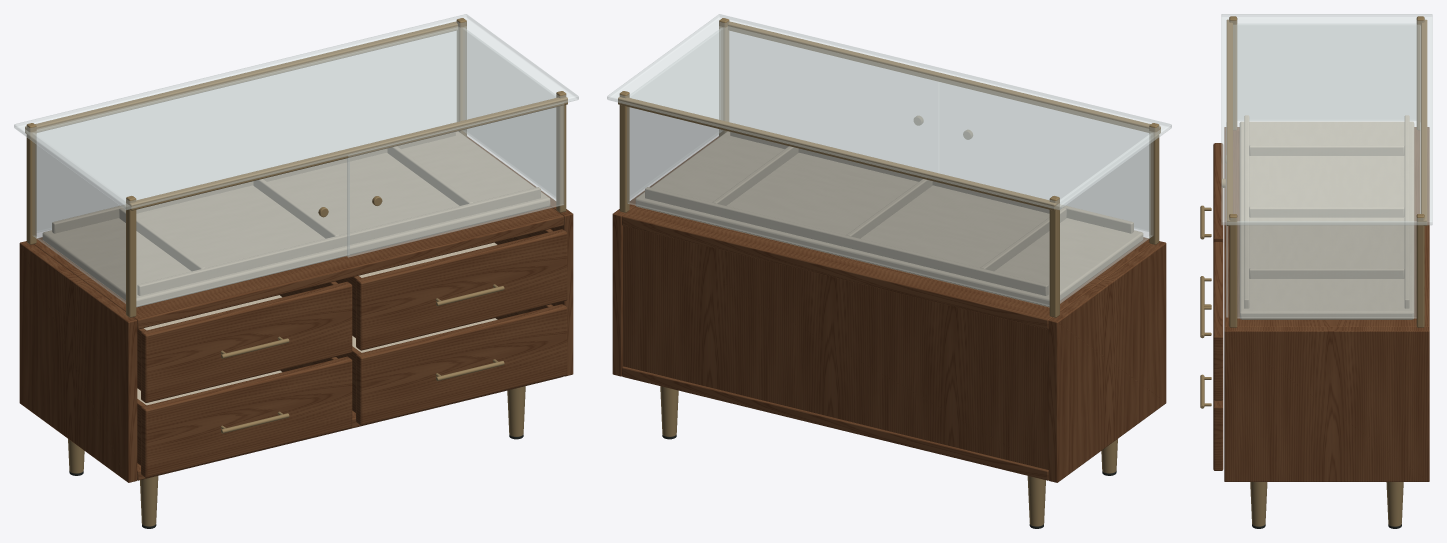
Rendered from gem.glb.
The picture shows the model from 3 angles, left to right: view 1: azimuth 30°, elevation 25°; view 2: azimuth 150°, elevation 25°; view 3: azimuth 270°, elevation 25°; orthographic projection. The views are drawn at different scales.
Visible parts, largest first — view 1: Glazing | polished glass canopy, Glazing | rear glass, Display | flax-lined presentation floor, Glazing | sliding front glass.001, Glazing | sliding front glass, Case | side, Display case | velvet-lined drawer | front.003, Display case | velvet-lined drawer | front.001, Display case | velvet-lined drawer | front.002, Display case | velvet-lined drawer | front, Case | horizontal panel.001, Glazing | side glass (+16 smaller); view 2: Case | inset back, Glazing | polished glass canopy, Glazing | rear glass, Display | flax-lined presentation floor, Case | side, Glazing | sliding front glass.001, Glazing | sliding front glass, Case | horizontal panel.001, Glazing | side glass, Glazing | side glass.001, Display tray | retaining rail.001, Case | horizontal panel (+13 smaller); view 3: Glazing | polished glass canopy, Case | side.001, Display | flax-lined presentation floor, Glazing | side glass.001, Glazing | side glass, Case | horizontal panel.001, Display tray | flax divider.001, Display case | velvet-lined drawer | front.003, Display tray | flax divider, Display tray | flax divider.002, Glazing | top edge rail, Glazing | top edge rail.001 (+11 smaller).
Boxes of the visible parts, x1,y1,x2,y2 form: Glazing | polished glass canopy: (14,14,578,209); Glazing | rear glass: (37,30,456,232); Display | flax-lined presentation floor: (42,131,550,307); Glazing | sliding front glass.001: (347,103,564,257); Glazing | sliding front glass: (136,158,349,306); Case | side: (19,241,137,482); Display case | velvet-lined drawer | front.003: (356,229,567,350); Display case | velvet-lined drawer | front.001: (141,281,352,402); Display case | velvet-lined drawer | front.002: (356,304,567,425); Display case | velvet-lined drawer | front: (141,356,352,477); Case | horizontal panel.001: (33,206,563,329); Glazing | side glass: (32,134,125,303); Case | inset back: (623,226,1048,469); Glazing | polished glass canopy: (607,14,1171,209); Glazing | rear glass: (627,107,1049,306); Display | flax-lined presentation floor: (635,131,1143,307); Case | side: (1048,241,1166,482); Glazing | sliding front glass.001: (729,31,937,172); Glazing | sliding front glass: (938,82,1148,231); Case | horizontal panel.001: (622,206,1152,329); Glazing | side glass: (1060,134,1153,303); Glazing | side glass.001: (630,28,722,198); Display tray | retaining rail.001: (645,187,1048,295); Case | horizontal panel: (622,366,1048,480); Glazing | polished glass canopy: (1221,14,1432,225); Case | side.001: (1224,327,1429,481); Display | flax-lined presentation floor: (1239,121,1414,319); Glazing | side glass.001: (1237,221,1416,318); Glazing | side glass: (1237,24,1416,120); Case | horizontal panel.001: (1224,131,1429,326); Display tray | flax divider.001: (1249,206,1404,217); Display case | velvet-lined drawer | front.003: (1213,242,1223,400); Display tray | flax divider: (1249,145,1404,155); Display tray | flax divider.002: (1249,268,1404,278); Glazing | top edge rail: (1226,19,1232,225); Glazing | top edge rail.001: (1421,19,1427,225).
Bounding box in the file's own units: 1.39 × 1.01 × 0.655.
5 materials, 2 textured.
